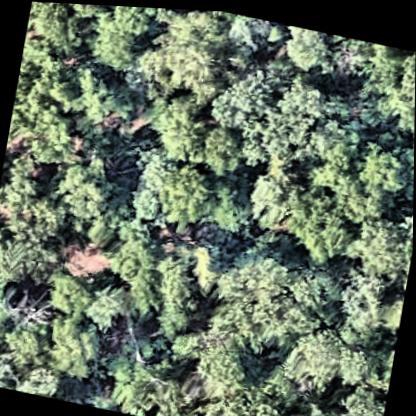tree-top: (290, 136, 387, 259), (210, 251, 324, 354), (152, 6, 254, 102), (18, 53, 120, 146), (257, 75, 340, 172), (101, 213, 172, 318), (150, 237, 210, 344), (206, 59, 283, 141), (43, 273, 102, 379), (274, 323, 352, 402), (152, 156, 224, 241), (105, 336, 183, 413), (84, 3, 158, 81), (336, 212, 410, 285), (191, 311, 255, 392), (56, 150, 123, 225), (146, 91, 212, 161), (325, 262, 385, 336), (209, 365, 295, 416), (192, 114, 252, 182), (23, 1, 91, 59), (354, 135, 415, 198), (12, 191, 70, 253), (277, 22, 338, 80), (84, 273, 136, 341), (245, 167, 303, 224), (383, 45, 416, 144), (72, 69, 131, 122), (196, 177, 247, 233), (337, 365, 390, 416), (288, 398, 369, 416), (48, 2, 108, 22)
